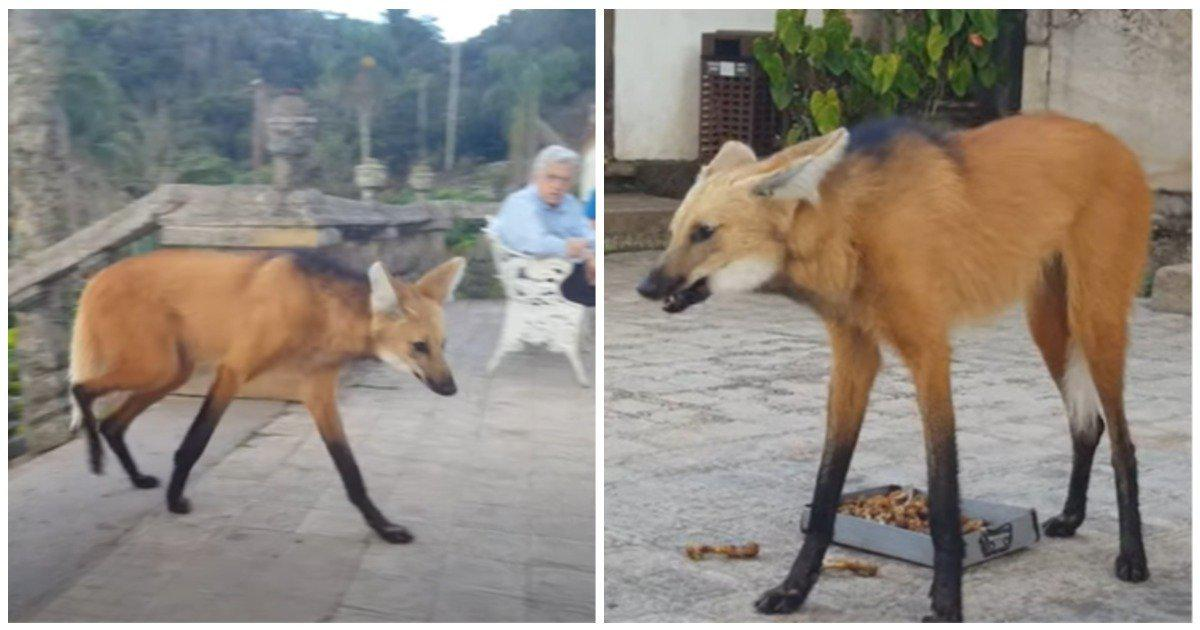LoboGuara: (632, 106, 1171, 609), (53, 243, 474, 559)
